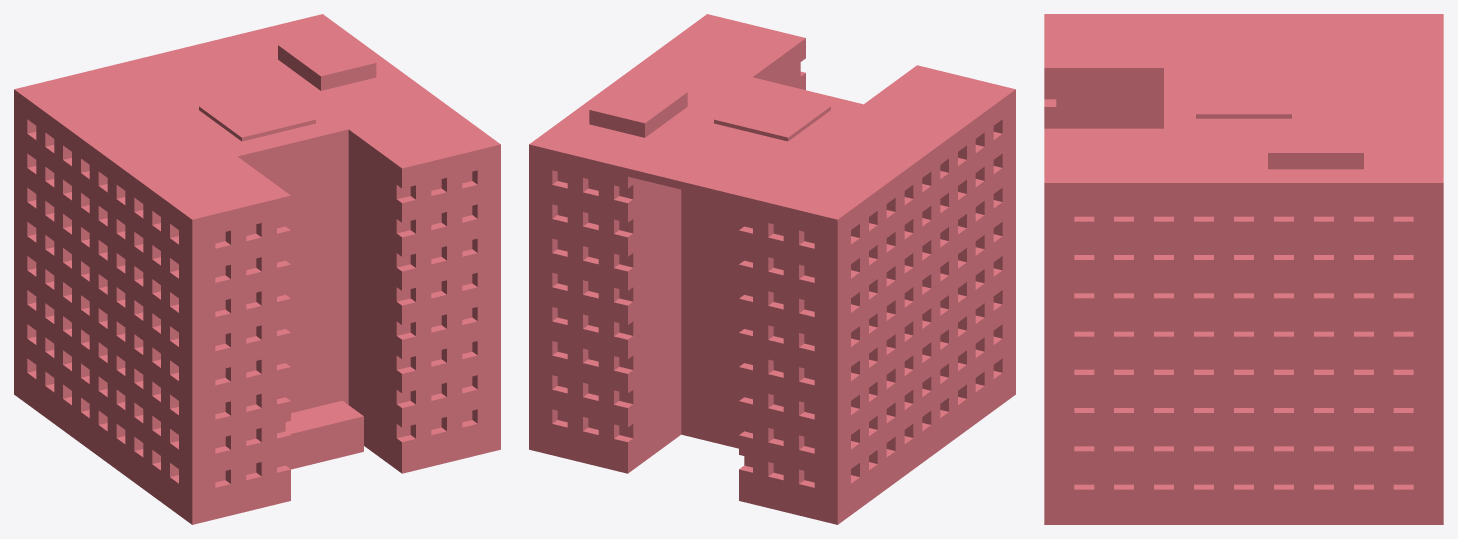
Rendered from healthcare.glb.
The picture shows the model from 3 angles, left to right: view 1: azimuth 30°, elevation 25°; view 2: azimuth 150°, elevation 25°; view 3: azimuth 270°, elevation 25°; orthographic projection. The views are drawn at different scales.
Parts seen in each view (by area): view 1: healthcare; view 2: healthcare; view 3: healthcare.
Boxes of the visible parts, x1=… form: healthcare: x1=14, y1=14, x2=500, y2=524; healthcare: x1=529, y1=14, x2=1015, y2=524; healthcare: x1=1044, y1=14, x2=1443, y2=524.
Bounding box in the file's own units: 1 × 0.99 × 1.
